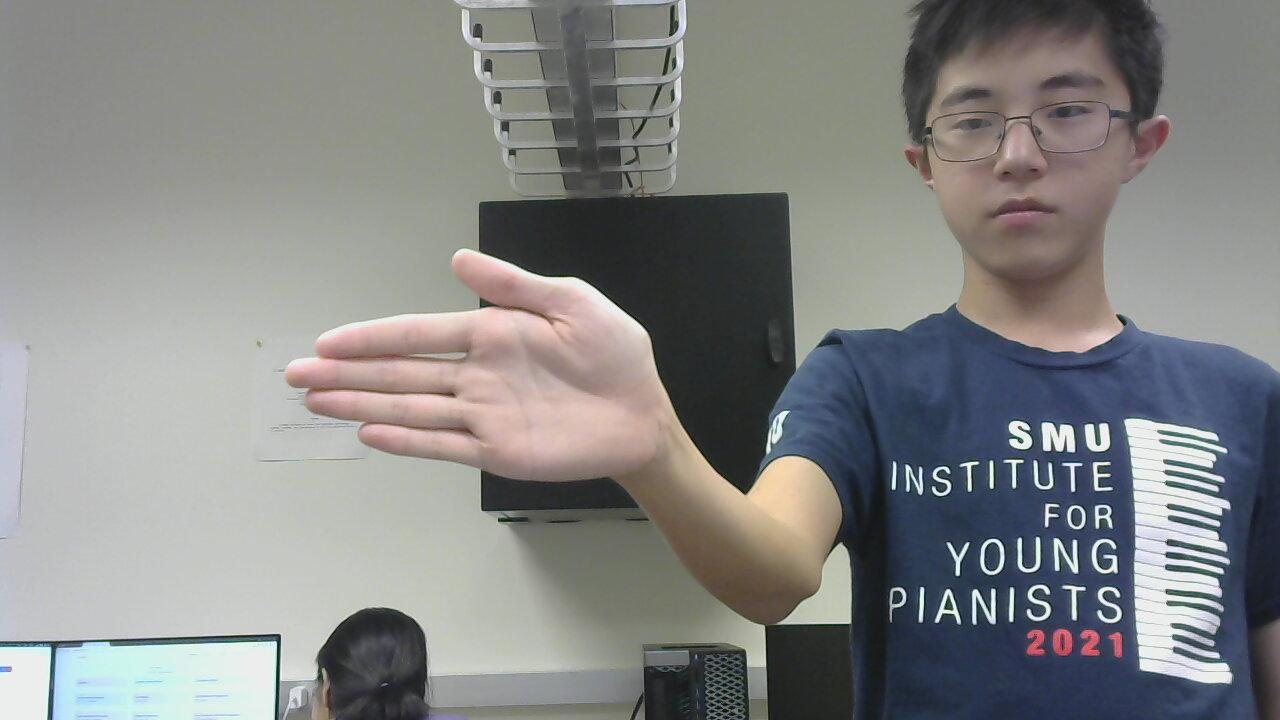hands: (263, 234, 675, 506)
